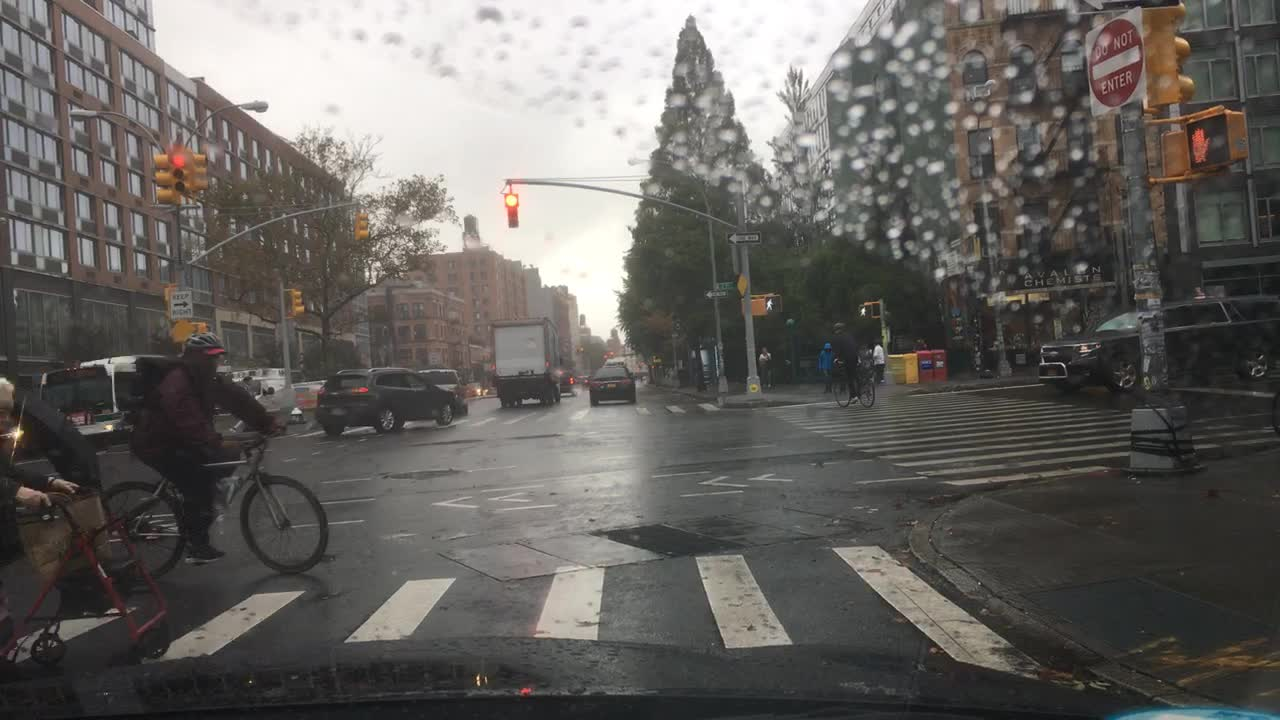bike: (98, 422, 329, 577), (831, 358, 875, 408)
car: (1036, 291, 1279, 394), (316, 365, 454, 435), (36, 352, 136, 442), (415, 367, 469, 415), (231, 366, 288, 402), (589, 363, 637, 405), (559, 368, 579, 395), (474, 382, 492, 397), (581, 374, 592, 390)
person: (818, 340, 832, 394), (757, 345, 773, 388), (871, 341, 887, 383), (863, 346, 875, 384)
rider: (124, 330, 287, 563), (0, 379, 80, 633), (828, 317, 863, 405)
traffic light: (1141, 2, 1195, 109), (1182, 106, 1248, 171), (152, 152, 181, 205), (1160, 129, 1190, 176), (188, 148, 209, 194), (169, 148, 188, 193), (168, 321, 208, 342), (354, 209, 371, 244), (740, 297, 767, 316), (505, 191, 518, 227), (289, 288, 305, 317), (162, 285, 179, 301), (764, 295, 780, 310), (860, 304, 874, 317)
traffic sign: (1084, 5, 1143, 116), (725, 231, 761, 244), (703, 287, 727, 299), (737, 272, 748, 295), (716, 281, 733, 290)
truck: (489, 315, 560, 406)
